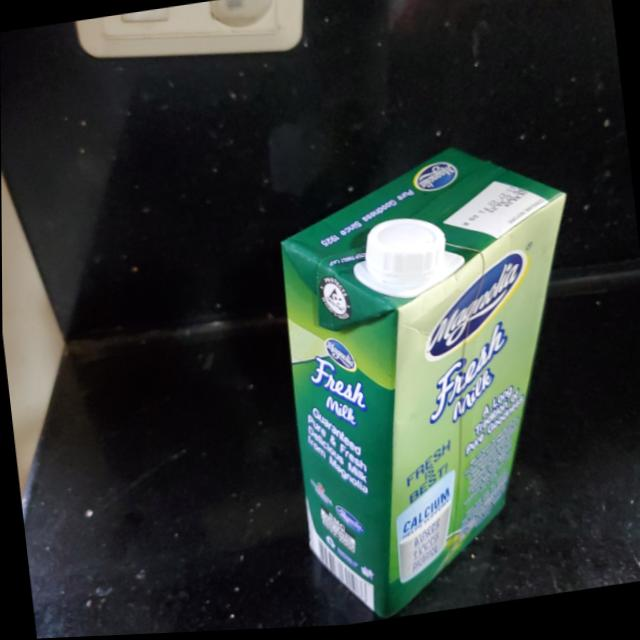milk: (267, 136, 610, 631)
